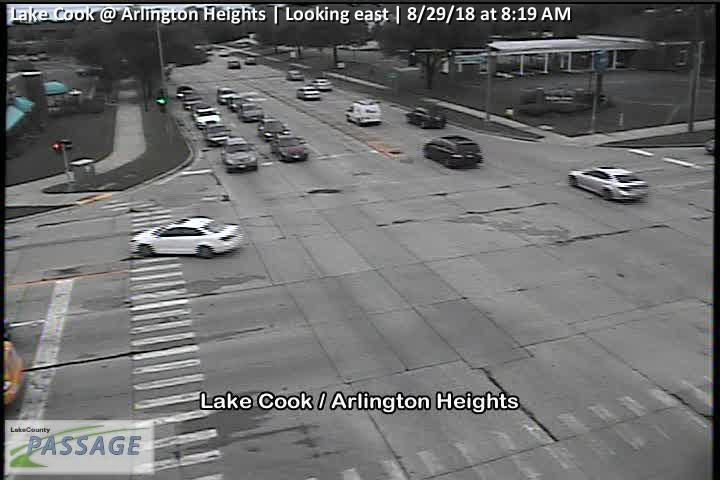SUV: (423, 135, 482, 170), (224, 136, 258, 171), (344, 99, 382, 125), (406, 107, 448, 128), (191, 103, 221, 130), (258, 118, 289, 140), (240, 104, 264, 122), (217, 87, 235, 104), (287, 67, 304, 79)
Sedan: (129, 216, 242, 260), (270, 134, 308, 161), (204, 123, 232, 146), (306, 78, 333, 90), (297, 86, 320, 100), (227, 58, 240, 68), (245, 55, 256, 64)
